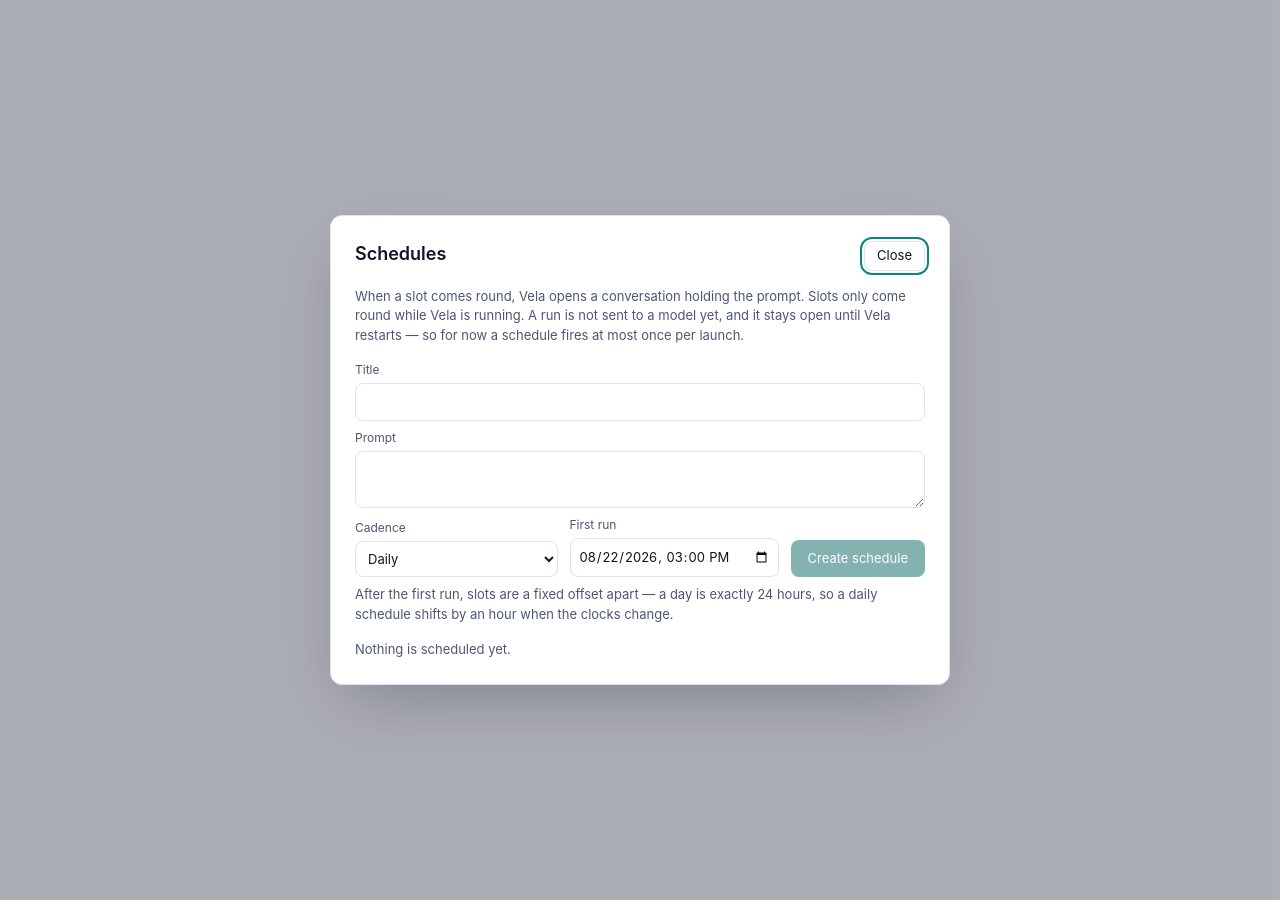
Test: the schedules pane › deletes a schedule when asked, and says the list is empty again
Step 1. Click the field labelled "Title" → [640, 402], box [355, 383, 925, 421]
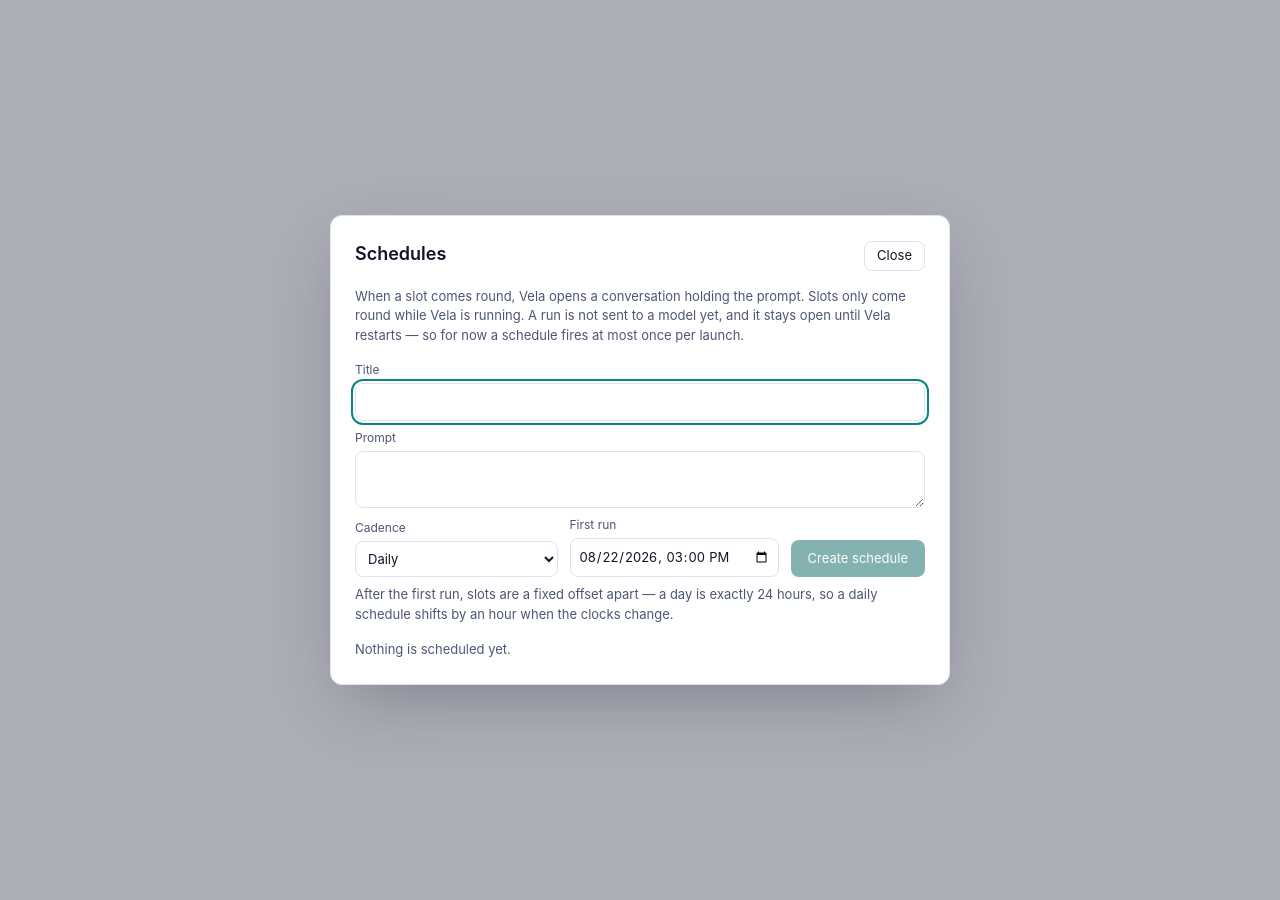
Step 2. Type keys "temporary"
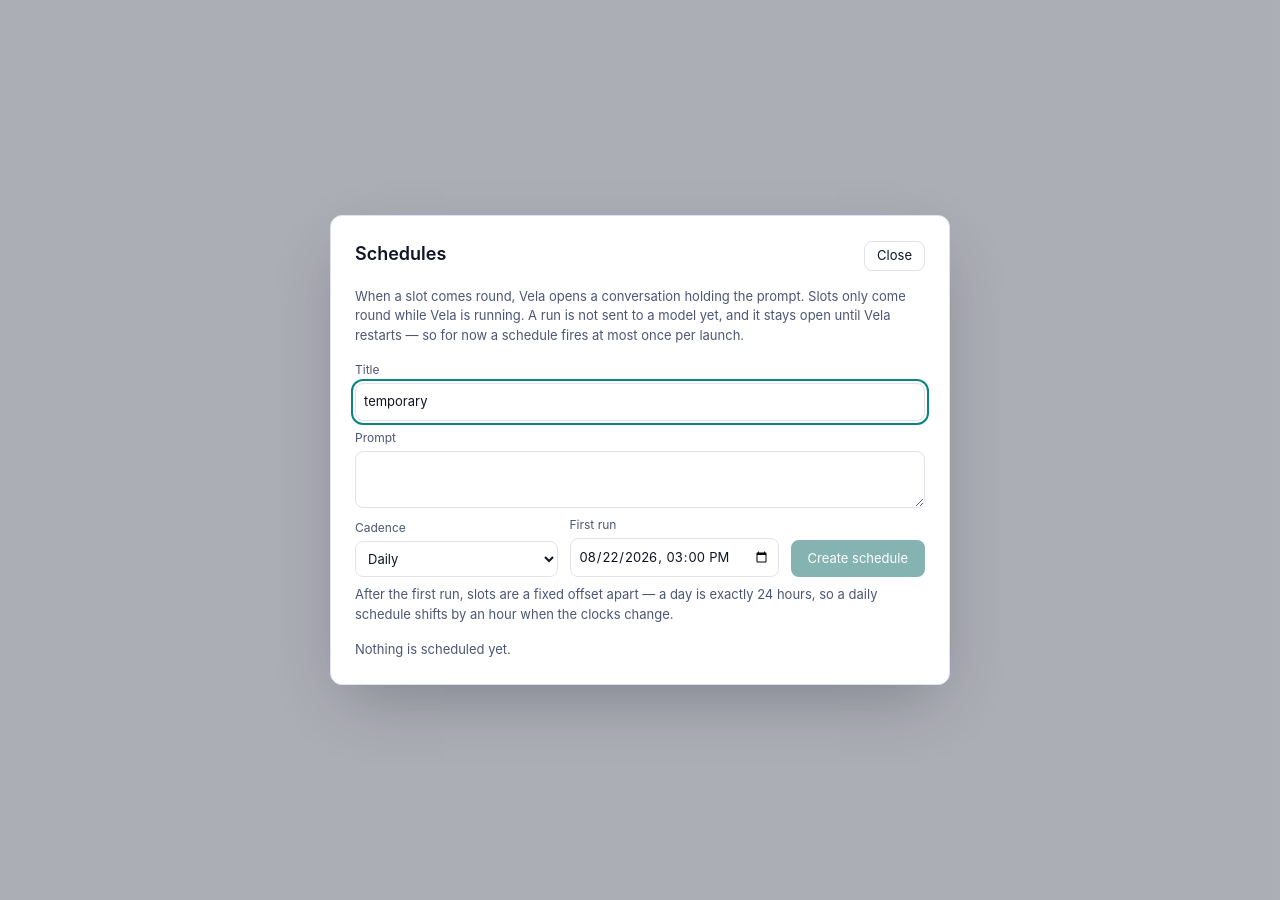
Step 3. Click the text box labelled "Prompt" → [640, 479], box [355, 451, 925, 508]
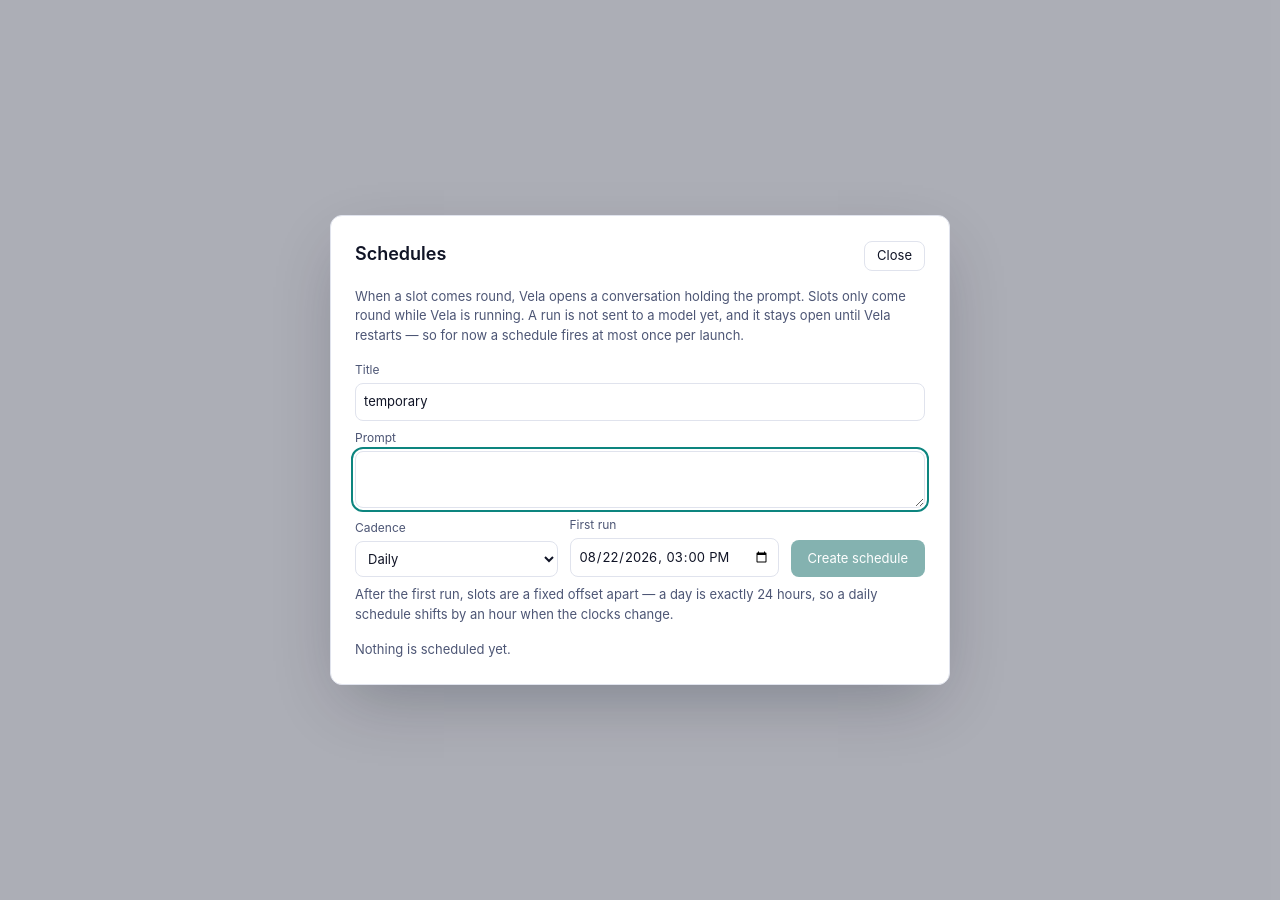
Step 4. Type keys "do a thing"
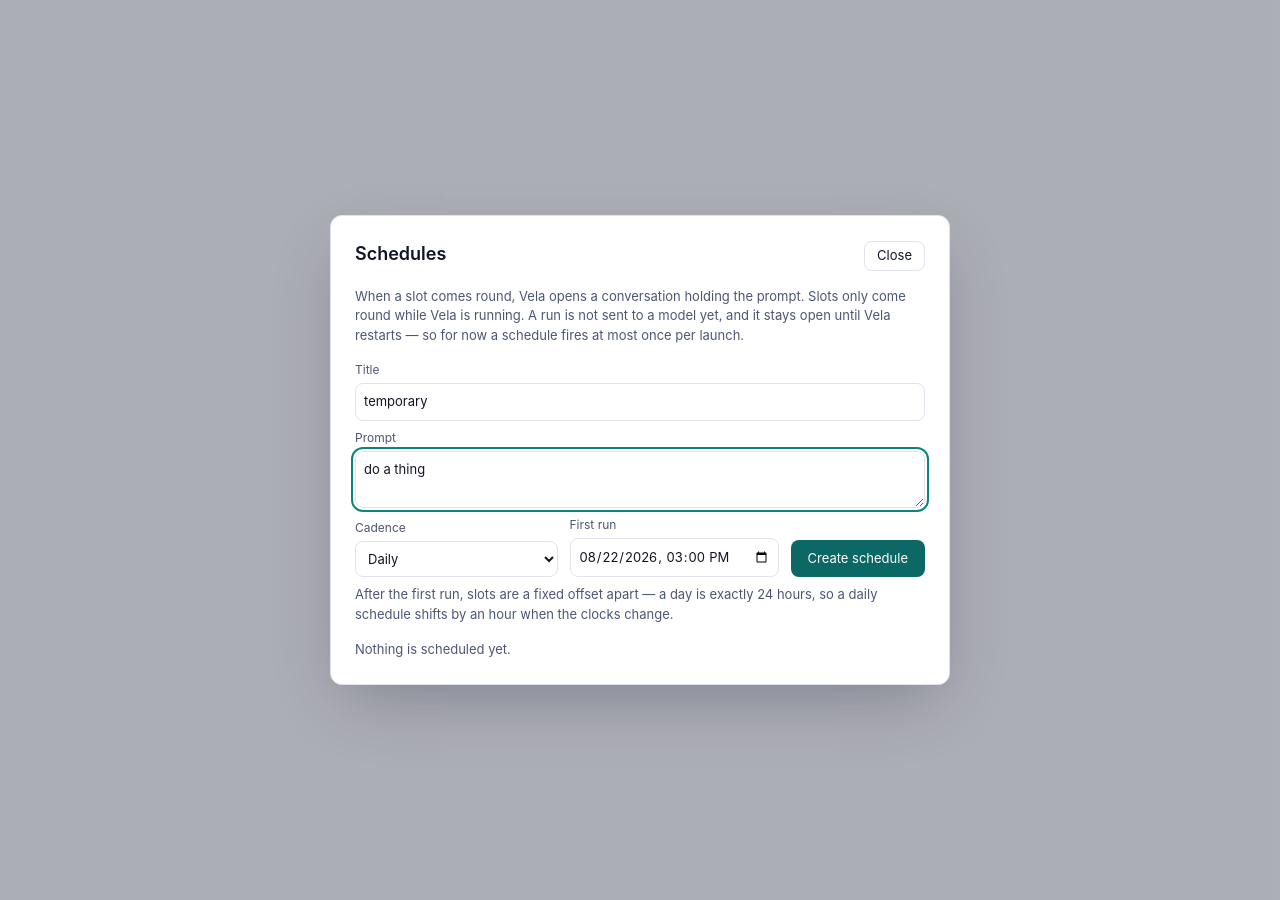
Step 5. Click the button "Create schedule" → [858, 559], box [790, 540, 925, 577]
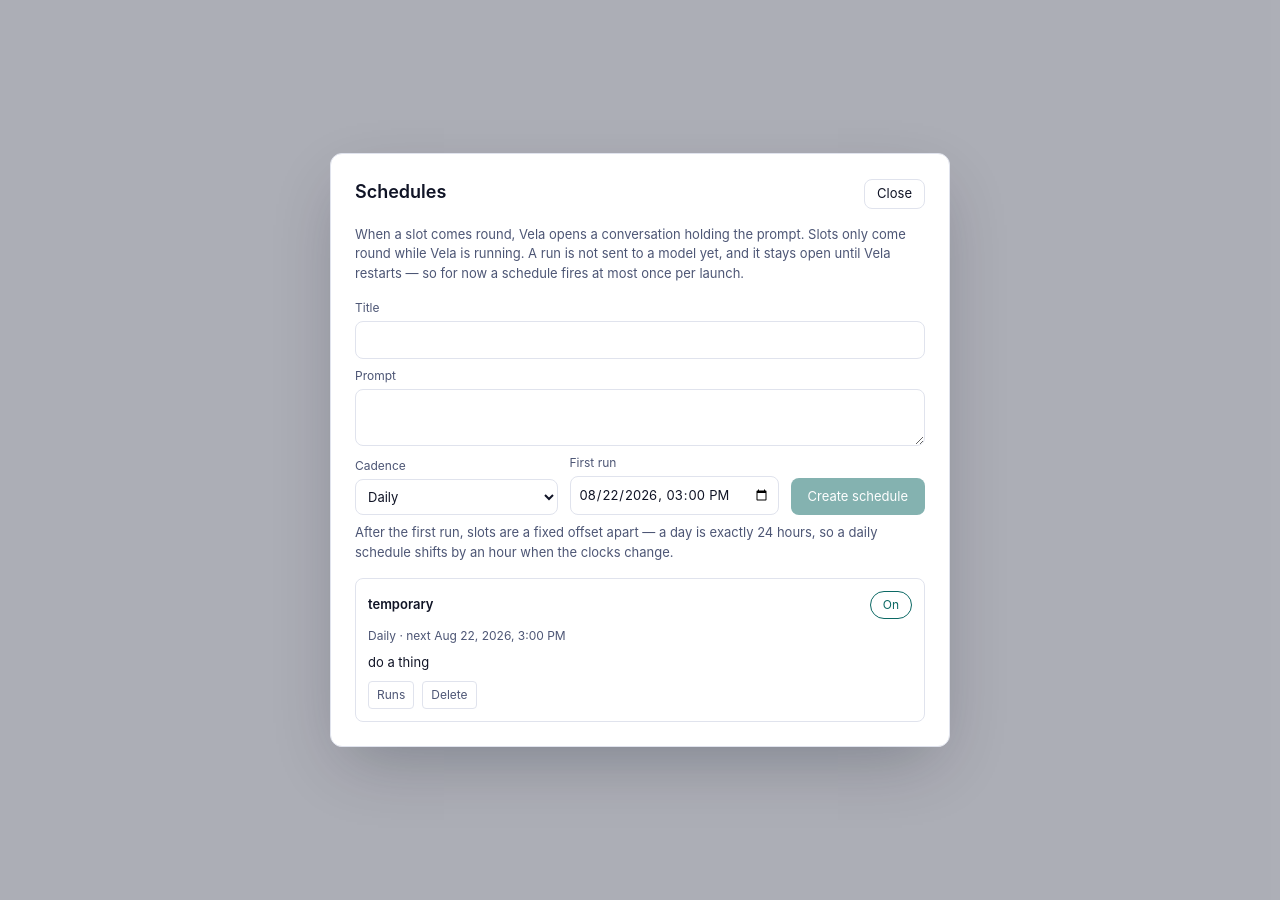
Result: the switch named "Enabled: temporary" is shown at [870, 591, 912, 619]
Step 6. Click the button with aria-label "Delete: temporary" → [450, 695], box [422, 681, 477, 709]
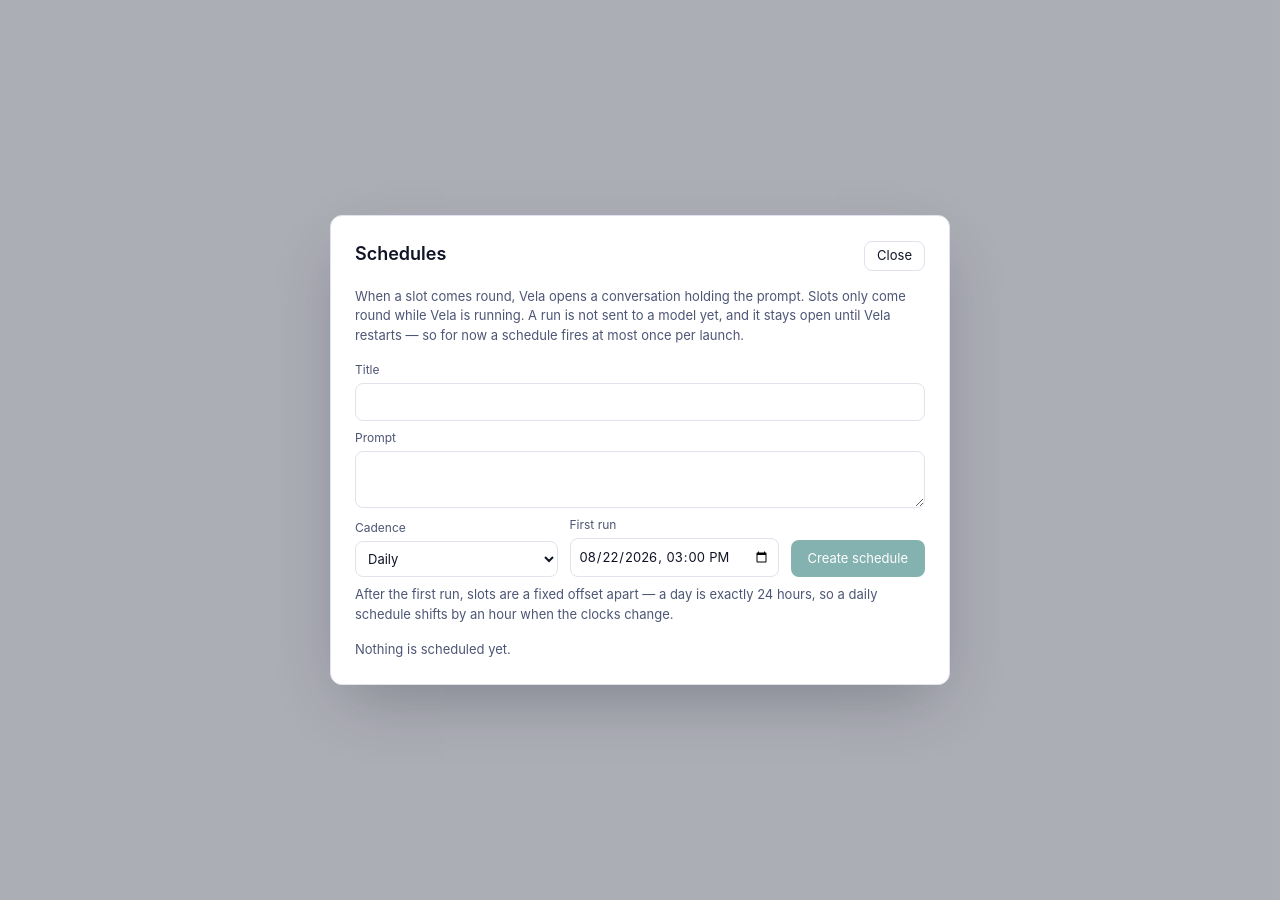
Result: the text "Nothing is scheduled yet." is shown at [355, 641, 511, 657]
